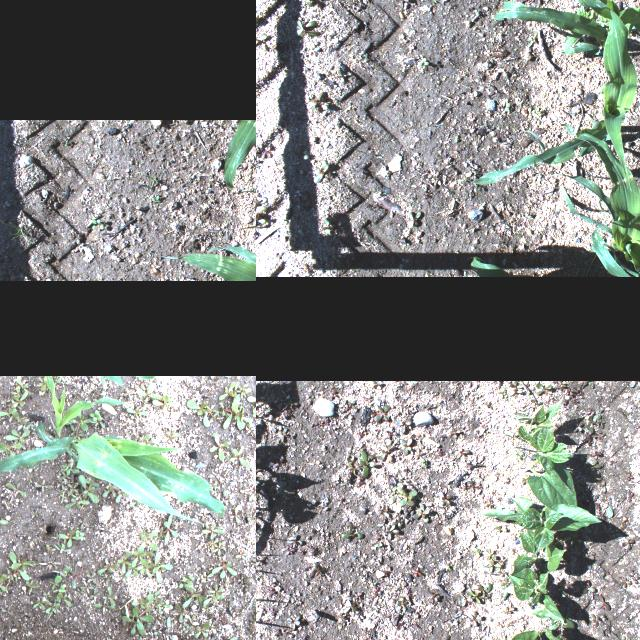crop: (464, 0, 637, 192), (0, 418, 223, 523), (557, 122, 640, 276), (513, 395, 583, 519), (493, 0, 640, 55), (482, 496, 602, 548), (46, 376, 124, 436), (504, 572, 564, 634), (511, 528, 569, 580), (223, 119, 256, 189), (469, 256, 535, 276), (507, 627, 568, 640)
weed: (576, 5, 632, 37), (120, 594, 154, 636), (0, 217, 37, 244), (216, 380, 252, 406), (186, 399, 220, 426), (64, 408, 92, 440), (219, 402, 253, 428), (9, 552, 37, 580), (72, 474, 98, 502), (241, 171, 256, 219), (208, 432, 232, 462), (152, 551, 174, 583), (136, 528, 158, 554), (212, 556, 238, 578), (152, 393, 180, 413), (160, 514, 178, 544), (397, 481, 418, 505), (136, 382, 158, 404), (296, 19, 322, 37), (57, 529, 83, 547), (359, 449, 375, 477), (309, 90, 329, 112), (290, 144, 312, 164), (229, 445, 249, 467), (181, 586, 201, 608), (5, 480, 27, 498), (6, 426, 30, 442), (116, 550, 132, 574), (94, 597, 115, 615), (593, 82, 613, 100), (131, 549, 151, 567), (192, 619, 210, 639), (0, 442, 21, 459), (125, 559, 144, 577), (314, 163, 331, 183), (492, 5, 506, 29), (10, 390, 28, 408), (200, 524, 223, 538), (60, 458, 80, 474), (15, 376, 30, 396), (0, 405, 20, 420), (246, 385, 256, 415), (140, 172, 158, 188), (316, 160, 332, 178), (34, 478, 51, 494), (126, 406, 148, 418), (64, 498, 90, 508), (24, 579, 40, 595), (102, 482, 118, 498), (322, 218, 336, 236), (408, 210, 422, 228), (52, 583, 66, 601), (140, 558, 154, 576), (208, 582, 222, 600), (30, 597, 50, 609), (96, 564, 120, 574), (44, 600, 60, 614), (49, 574, 63, 590), (58, 592, 72, 608), (0, 573, 7, 604), (162, 430, 180, 442), (38, 375, 51, 391), (106, 586, 115, 608), (80, 580, 94, 594), (87, 408, 101, 422), (144, 432, 158, 446), (204, 593, 218, 607), (256, 33, 268, 49), (66, 480, 78, 496), (536, 382, 552, 394), (256, 214, 269, 228), (114, 491, 128, 504), (256, 196, 268, 211), (0, 513, 9, 531), (528, 30, 538, 46), (92, 218, 105, 230), (150, 194, 162, 206), (260, 146, 272, 158), (417, 56, 429, 68), (54, 543, 72, 551), (599, 199, 607, 215), (338, 69, 347, 83), (297, 0, 322, 5), (87, 572, 97, 584), (56, 478, 66, 490), (10, 386, 20, 396), (398, 0, 410, 8), (573, 57, 585, 65), (62, 136, 70, 146), (504, 101, 512, 111), (474, 7, 481, 17), (532, 108, 540, 116), (363, 54, 369, 62), (454, 134, 460, 142), (524, 213, 532, 219), (506, 188, 510, 194), (454, 250, 458, 254)
